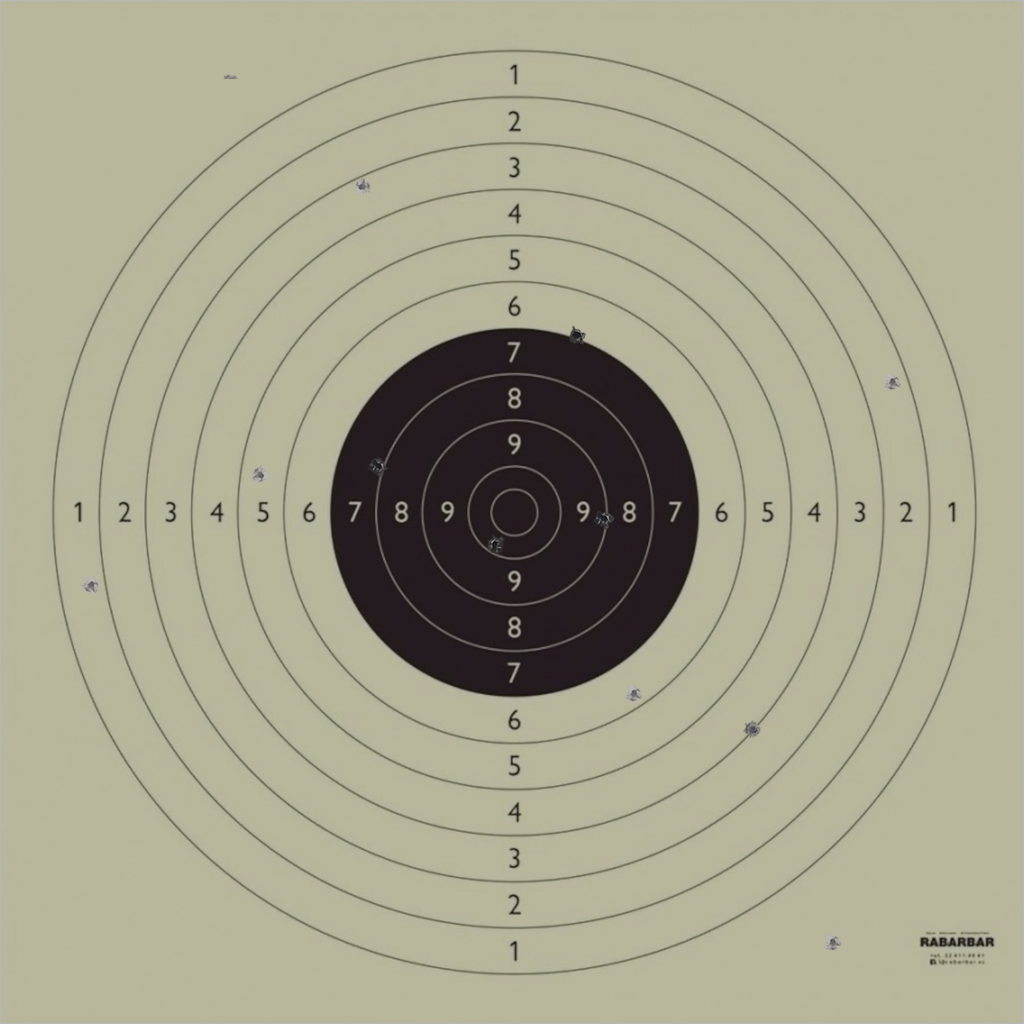0 punktow: (824, 933, 842, 952)
1 punkt: (82, 576, 101, 594)
10 punktow: (486, 535, 504, 553)
2 punkty: (884, 373, 902, 391)
3 punkty: (353, 177, 371, 196)
4 punkty: (744, 720, 762, 739)
5 punktow: (251, 466, 270, 484)
6 punktow: (625, 684, 643, 703)
7 punktow: (568, 326, 586, 345)
8 punktow: (370, 457, 388, 476)
9 punktow: (594, 509, 613, 528)
